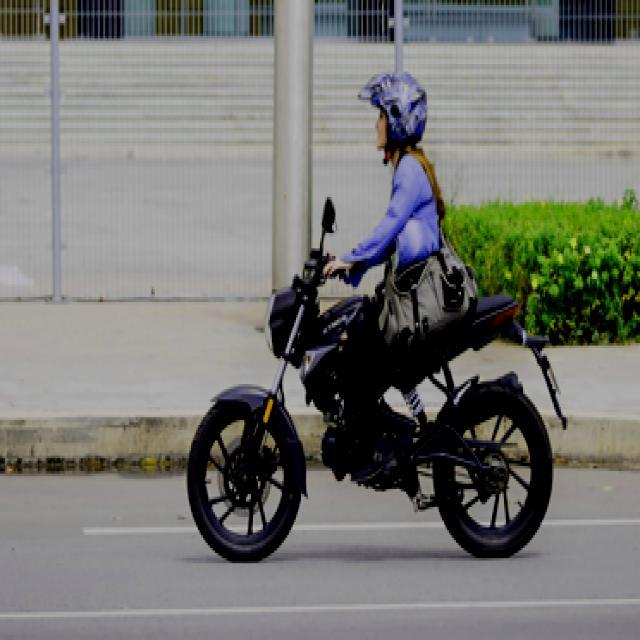Helmet: (356, 56, 434, 156)
